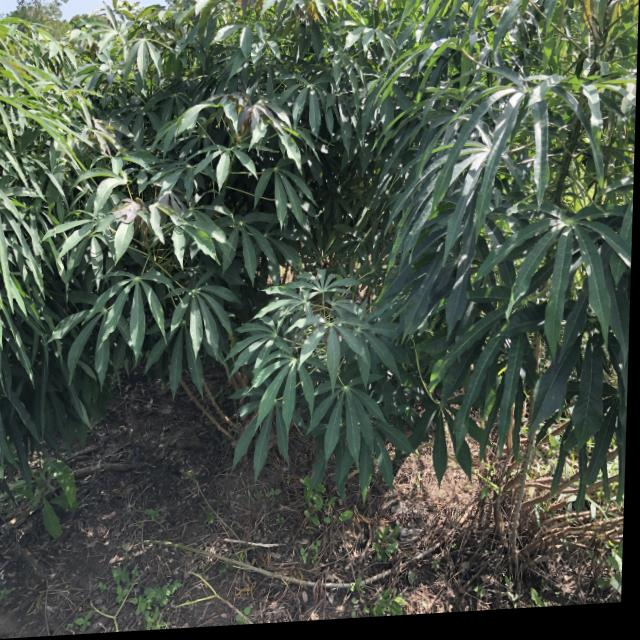Mosca: (335, 327, 345, 347), (277, 396, 287, 408), (352, 417, 363, 427)
